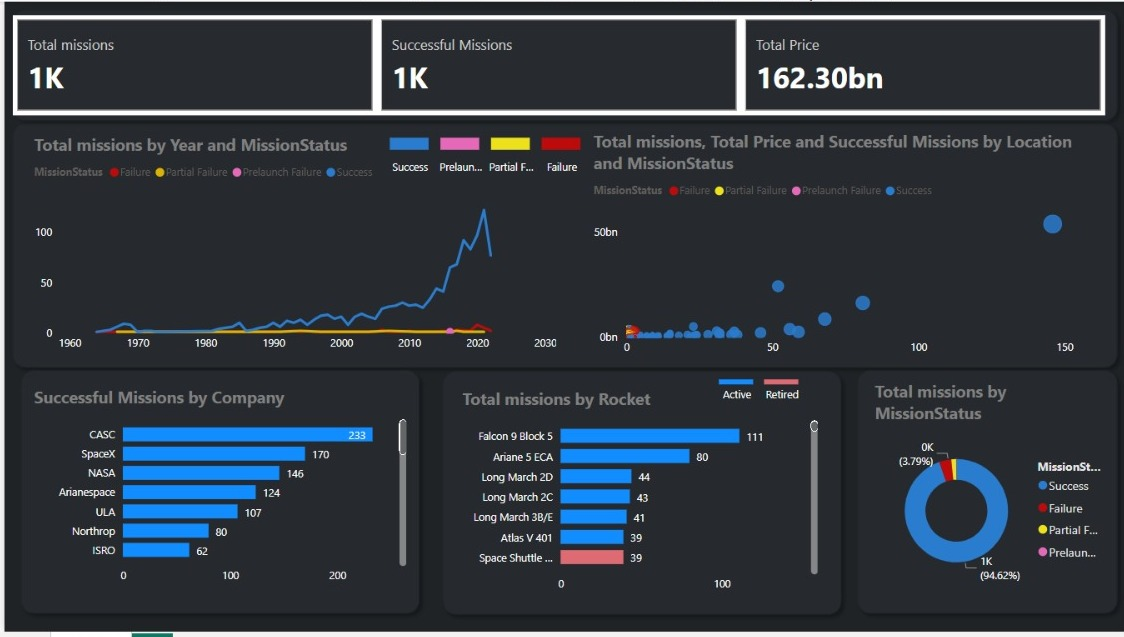

This screenshot's page, from the dashboard's own definition file:
{"tool":"powerbi","page":{"name":"Page 1","canvas":[1280,720],"ordinal":0},"visuals":[{"type":"lineChart","fields":{"Category":["Date Table.Year"],"Y":["All measures.Total missions"],"Series":["space_missions.MissionStatus"]},"box":[0,163.9,529.4,264.7],"z":0},{"type":"barChart","fields":{"Category":["space_missions.Company"],"Y":["All measures.Successful Missions"]},"box":[0,440.7,509.3,279.5],"z":1000},{"type":"barChart","fields":{"Category":["space_missions.Rocket"],"Y":["All measures.Total missions"]},"box":[575.7,411.6,482.9,308],"z":2000},{"type":"scatterChart","fields":{"X":["All measures.Total missions"],"Y":["All measures.Total Price"],"Category":["space_missions.Location"],"Series":["space_missions.MissionStatus"],"Size":["All measures.Successful Missions"]},"box":[575.1,182.7,554.9,275.5],"z":3000},{"type":"donutChart","fields":{"Y":["All measures.Total missions"],"Category":["space_missions.MissionStatus"]},"box":[1130.1,536.1,150.5,163.9],"z":4000},{"type":"cardVisual","fields":{"Data":["All measures.Total missions","All measures.Successful Missions","All measures.Total Price"]},"box":[0,0,1279.6,164],"z":5000}]}

Visuals, with their boxes in screenshot pixels (x1, y1, x2, y2), scaled from the page's 1280x720 canvas onto the 1124x637 screenshot:
lineChart - Date Table.Year x All measures.Total missions: x1=0, y1=145, x2=465, y2=379
barChart - space_missions.Company x All measures.Successful Missions: x1=0, y1=390, x2=447, y2=636
barChart - space_missions.Rocket x All measures.Total missions: x1=506, y1=364, x2=930, y2=636
scatterChart - All measures.Total missions x All measures.Total Price: x1=505, y1=162, x2=992, y2=405
donutChart - All measures.Total missions x space_missions.MissionStatus: x1=992, y1=474, x2=1123, y2=619
cardVisual - All measures.Total missions x All measures.Successful Missions: x1=0, y1=0, x2=1123, y2=145
